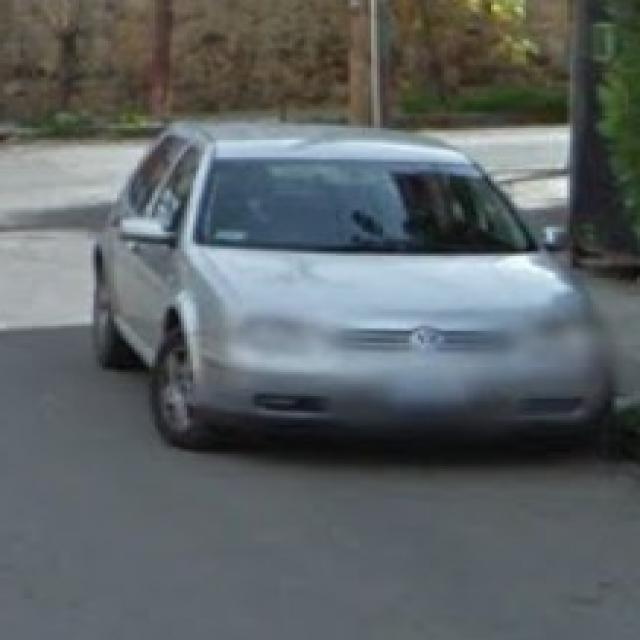car: (92, 112, 598, 450)
